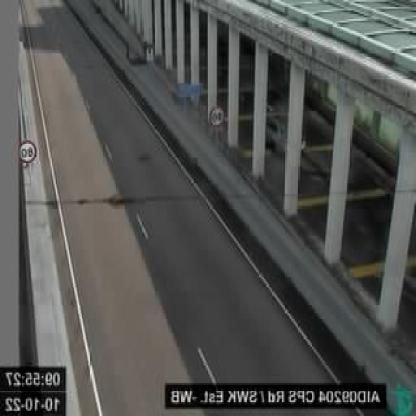Car: (263, 110, 305, 155)
